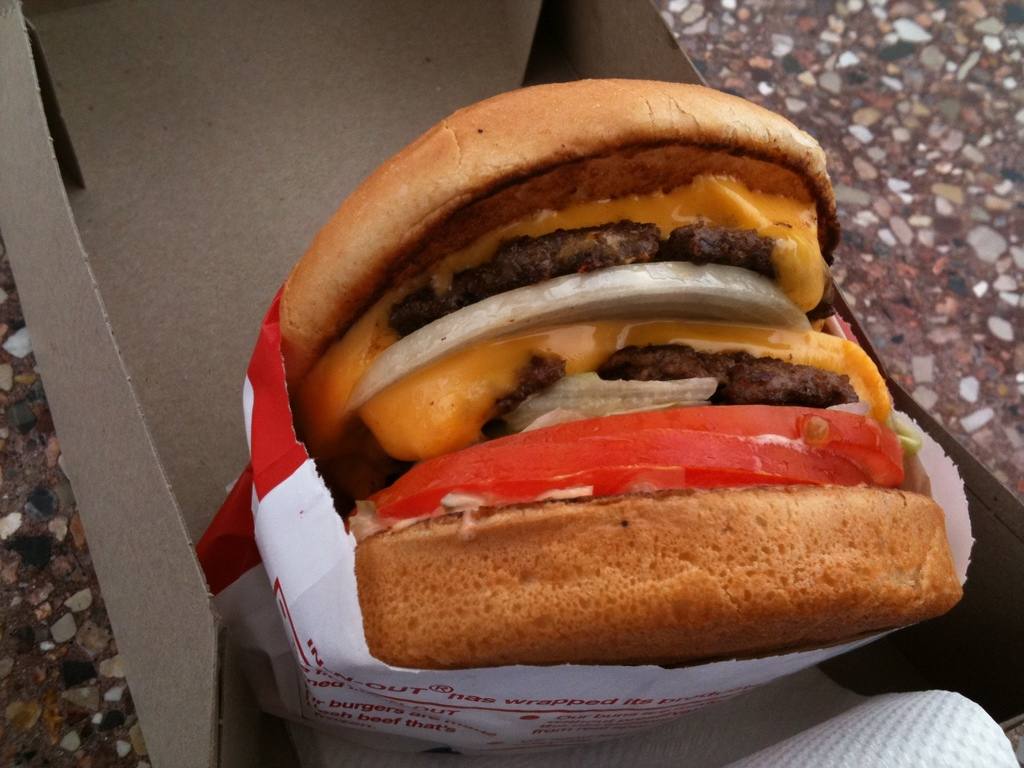Hamburger: (280, 76, 960, 669)
